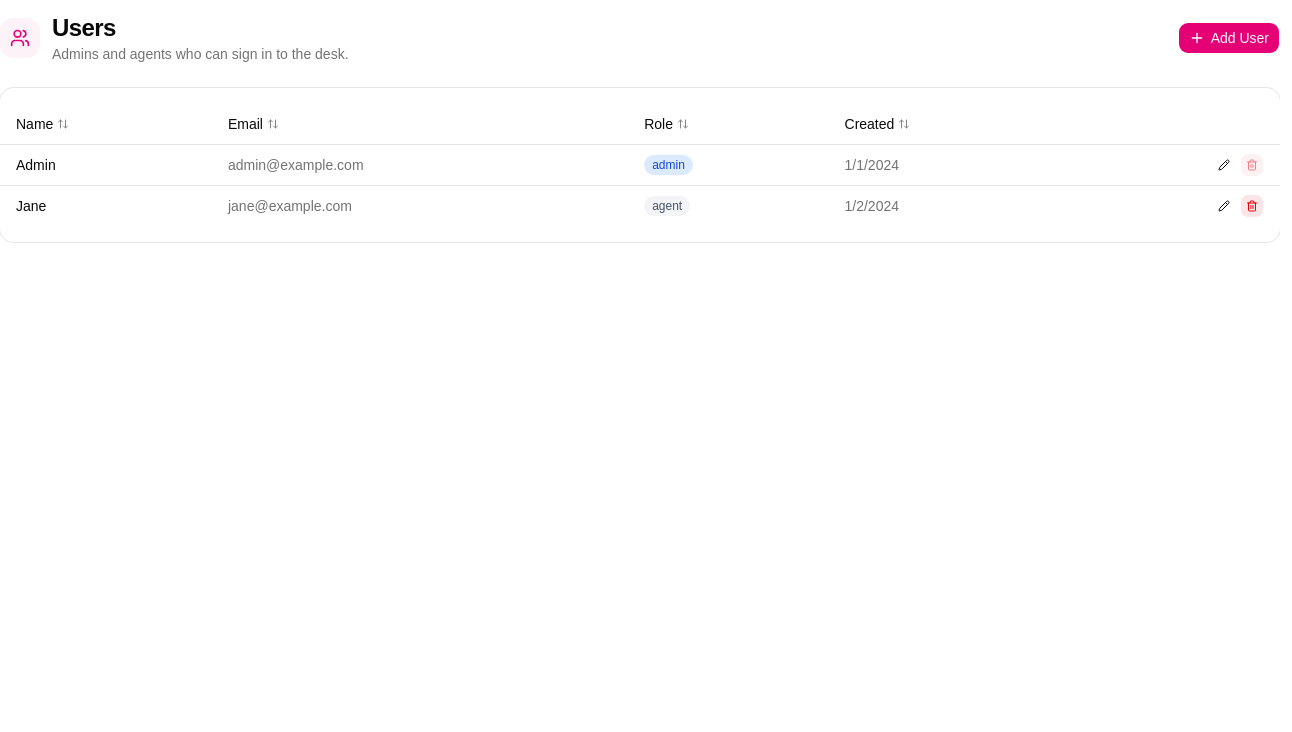
Users page › "Add User" form › appears when "Add User" is clicked
Check: the text "Admin" is shown, box [16,156,56,172]
Click the button "Add User": [1229, 38] box [1178,22,1280,54]
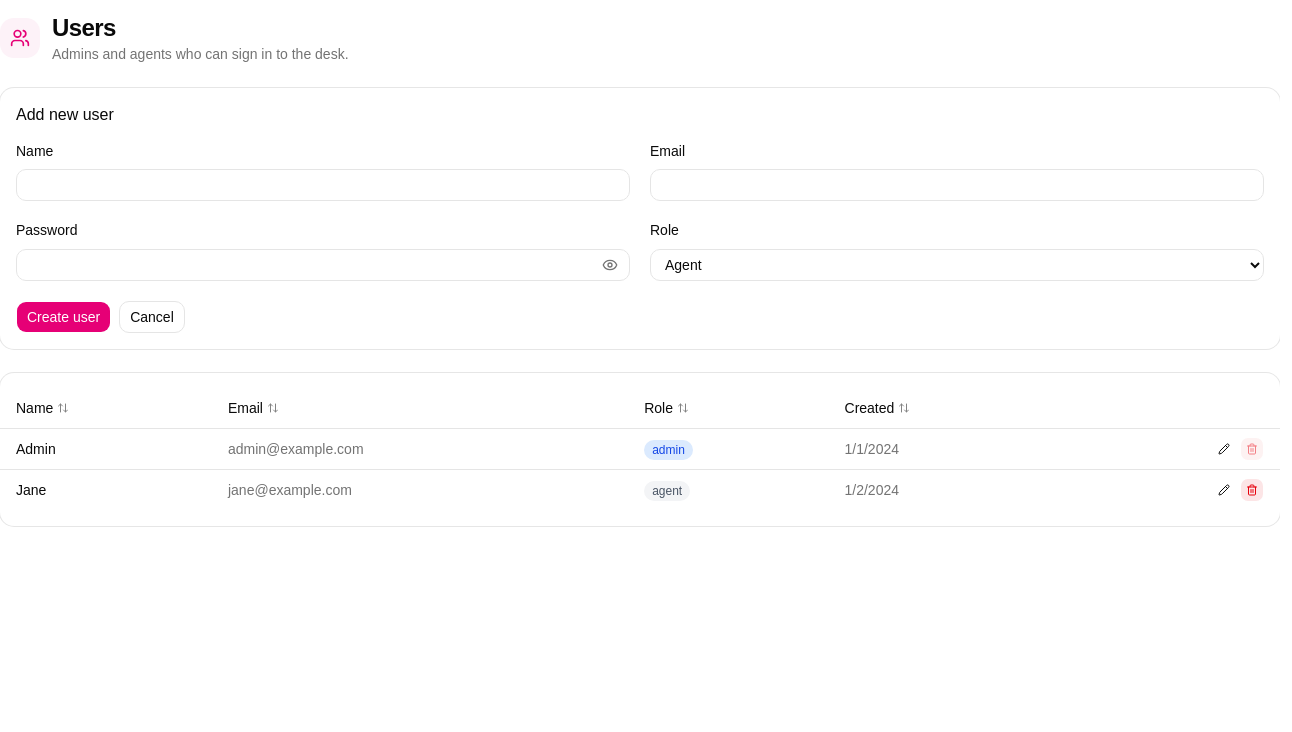
Check: the text "Add new user" is shown, box [16,106,114,123]
